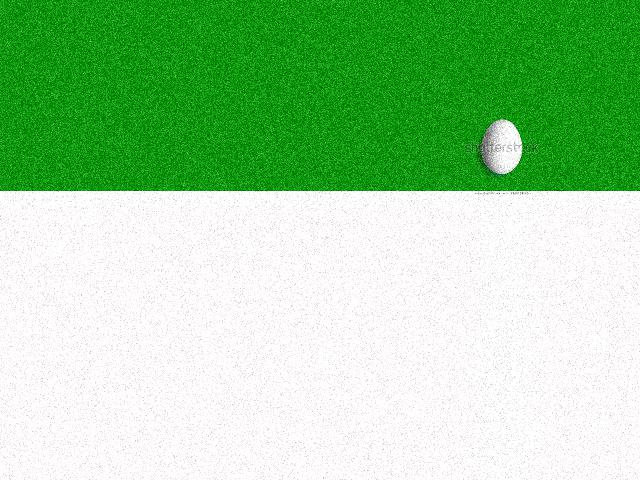egg: (481, 119, 522, 174)
